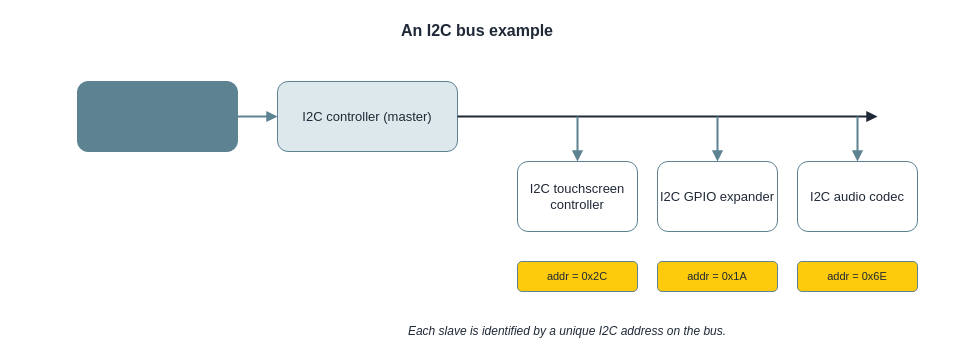
The diagram is 954 pixels wide and 358 high, and some of its shapes have lost their labels. Each missing label, with the box of its shape:
Processor: (76, 80, 238, 152)
SDA / SCL (two wires): (596, 90, 752, 114)
